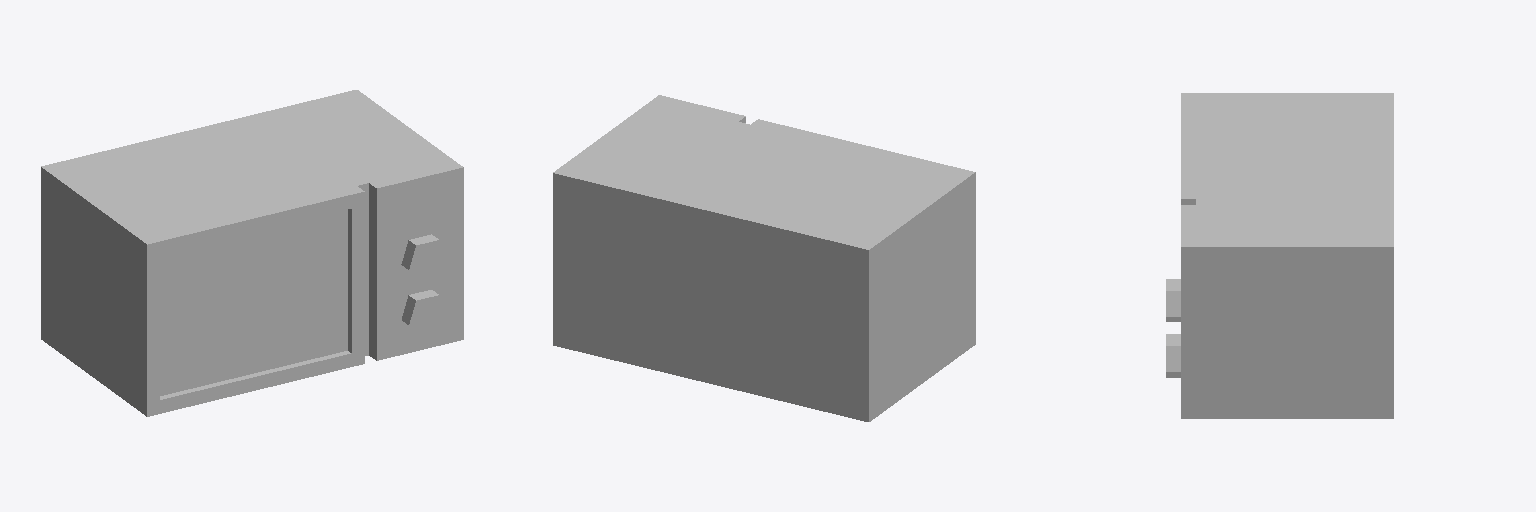
File: MicroWave.obj
3 views of the same model, side by side, from view 1: azimuth 30°, elevation 25°; view 2: azimuth 150°, elevation 25°; view 3: azimuth 270°, elevation 25° (orthographic).
Parts seen in each view (by area): view 1: object_5, object_2, object_1, object_6, object_4, object_3; view 2: object_5, object_1; view 3: object_5, object_1, object_4, object_3.
Part boxes in pixels (left/top/right/bottom): object_5: left=41, top=90, right=463, bottom=410; object_2: left=160, top=210, right=347, bottom=395; object_1: left=140, top=186, right=364, bottom=416; object_6: left=391, top=184, right=450, bottom=225; object_4: left=402, top=290, right=446, bottom=334; object_3: left=401, top=234, right=445, bottom=279; object_5: left=553, top=95, right=967, bottom=421; object_1: left=751, top=119, right=975, bottom=349; object_5: left=1181, top=93, right=1393, bottom=418; object_1: left=1181, top=93, right=1195, bottom=204; object_4: left=1166, top=334, right=1180, bottom=377; object_3: left=1166, top=279, right=1180, bottom=321.
Bounding box in the file's own units: 48 × 25 × 30.